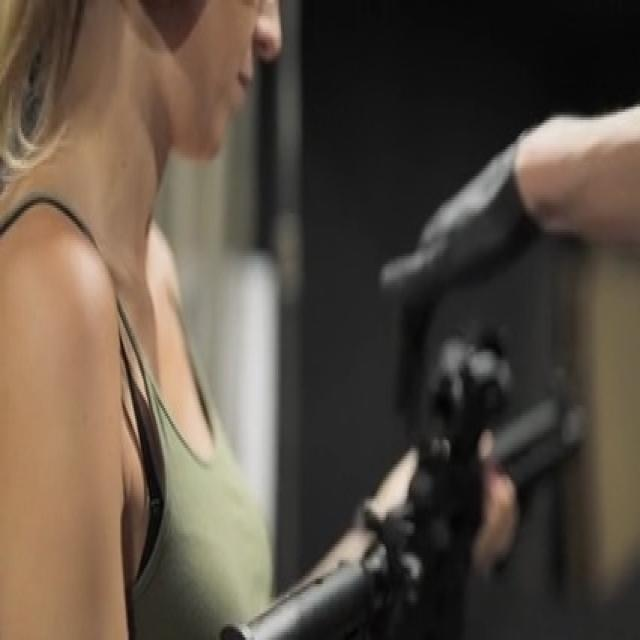Gun_Holder: (187, 333, 640, 640)
Person: (0, 0, 293, 632)
